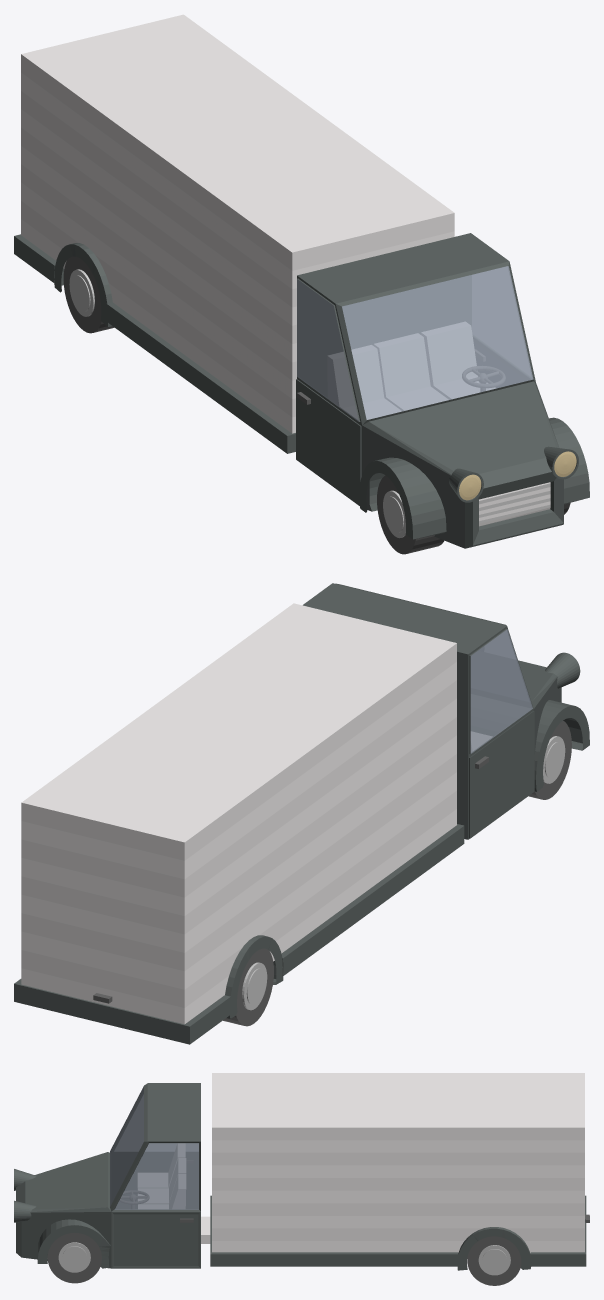
The model's file is truck.dae.
3 renders of one model, top to bottom at view 1: azimuth 30°, elevation 25°; view 2: azimuth 150°, elevation 25°; view 3: azimuth 270°, elevation 25°, orthographic. The views are drawn at different scales.
Visible parts, largest first — view 1: LKW_001; view 2: LKW_001; view 3: LKW_001.
Part boxes in pixels (x1,y1,x2,y2): LKW_001: [14, 14, 589, 554]; LKW_001: [14, 583, 589, 1044]; LKW_001: [14, 1073, 589, 1285].
Size of the model in its own units: 2.5 by 10 by 3.
